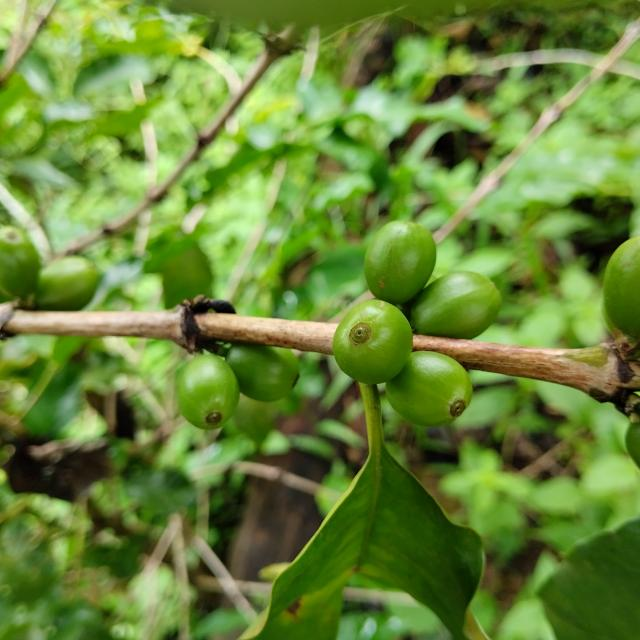green: (333, 299, 413, 385), (386, 351, 473, 427), (410, 271, 502, 339), (364, 220, 437, 303), (176, 354, 239, 430), (225, 345, 300, 402), (604, 235, 640, 337)
